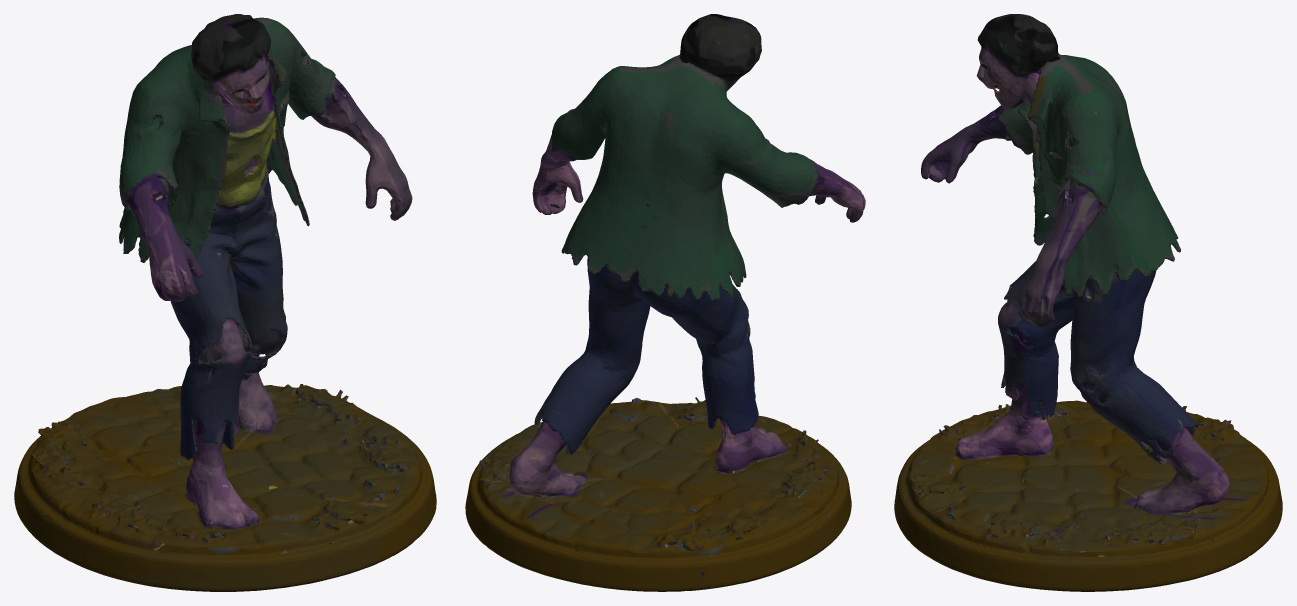
The model's file is zumbi.glb.
3 renders of one model, left to right at view 1: azimuth 30°, elevation 25°; view 2: azimuth 150°, elevation 25°; view 3: azimuth 270°, elevation 25°, orthographic. The views are drawn at different scales.
Parts seen in each view (by area): view 1: tmpqlz7f8nk.ply; view 2: tmpqlz7f8nk.ply; view 3: tmpqlz7f8nk.ply.
Boxes of the visible parts, left/top/right/bottom form: tmpqlz7f8nk.ply: left=14, top=14, right=436, bottom=591; tmpqlz7f8nk.ply: left=465, top=14, right=865, bottom=591; tmpqlz7f8nk.ply: left=894, top=14, right=1282, bottom=591.
Bounding box in the file's own units: 1.43 × 1.96 × 1.44.
1 material, 1 textured.
